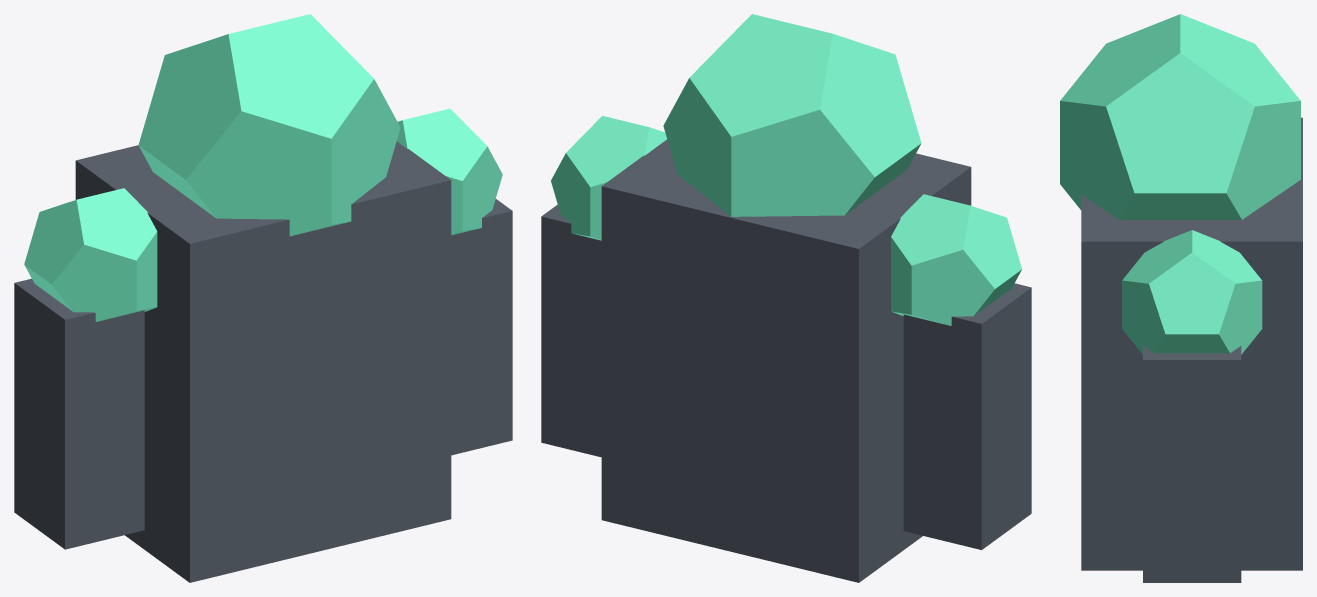
File: mountain_spirit.glb
3 renders of one model, left to right at view 1: azimuth 30°, elevation 25°; view 2: azimuth 150°, elevation 25°; view 3: azimuth 270°, elevation 25°, orthographic. The views are drawn at different scales.
Parts seen in each view (by area): view 1: body, head, arm_l, arm_r, shoulder_r, shoulder_l; view 2: body, head, arm_l, arm_r, shoulder_r, shoulder_l; view 3: body, head, arm_r, shoulder_l.
Boxes of the visible parts, x1,y1,x2,y2 form: body: (75, 141, 451, 582); head: (138, 14, 400, 236); arm_l: (14, 278, 144, 549); arm_r: (451, 199, 512, 455); shoulder_r: (24, 188, 157, 321); shoulder_l: (397, 108, 502, 235); body: (601, 139, 971, 582); head: (663, 14, 921, 216); arm_l: (903, 283, 1031, 549); arm_r: (541, 204, 601, 457); shoulder_r: (891, 194, 1021, 325); shoulder_l: (551, 116, 666, 240); body: (1081, 117, 1302, 570); head: (1060, 14, 1300, 219); arm_r: (1143, 346, 1241, 582); shoulder_l: (1122, 230, 1262, 354).
Bounding box in the file's own units: 2.16 × 2.24 × 1.04.
